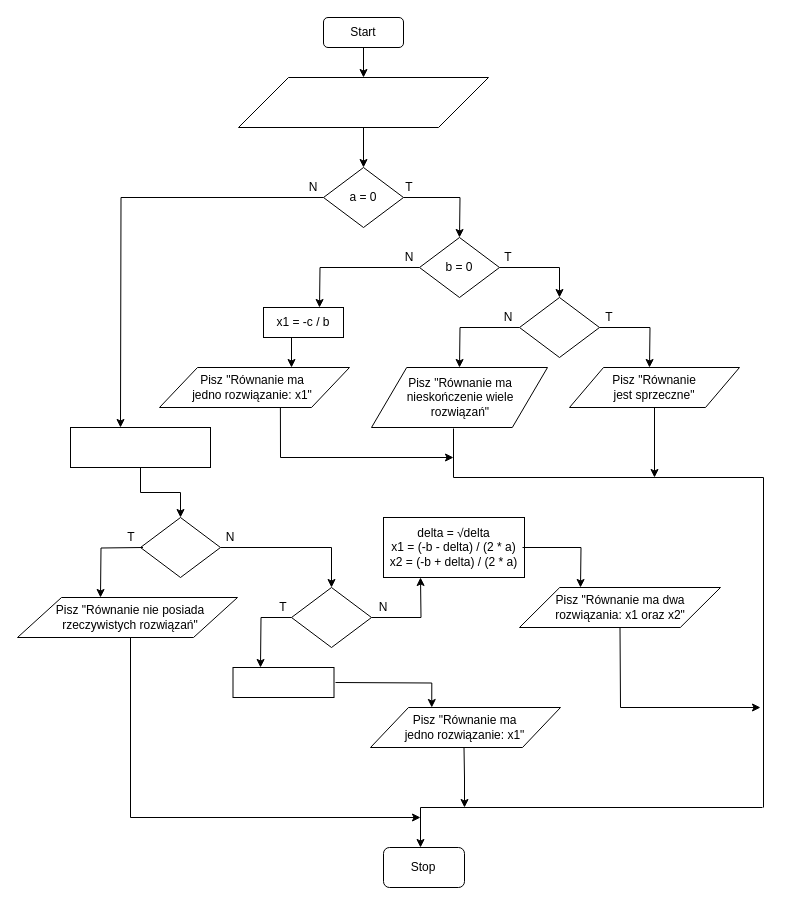
This 786x905 diagram has some shape labels left out. Here are the shapes that lost their labels. From the top down, the box of each, then its label:
(238, 76, 488, 128): Pisz "Podaj współczynniki a, b i c" Czytaj a, b i c
(518, 296, 600, 358): c != 0
(70, 426, 210, 468): delta = b * b - 4 * a * c
(140, 516, 220, 578): delta < 0
(290, 586, 372, 648): delta = 0
(232, 666, 334, 698): x1 = -b / (2 * a)
